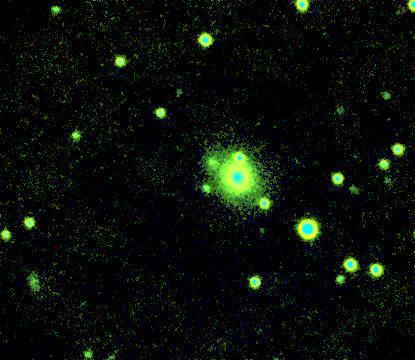star: (196, 147, 226, 177)
